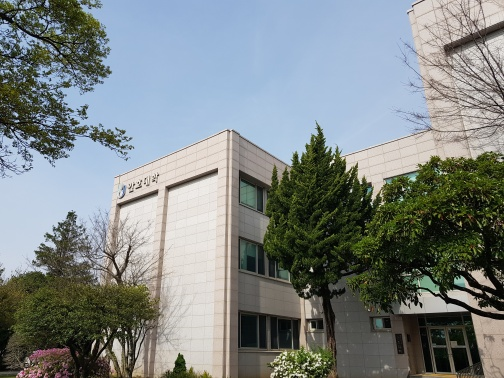College of Nursing: (98, 77, 496, 370), (116, 163, 163, 201)
